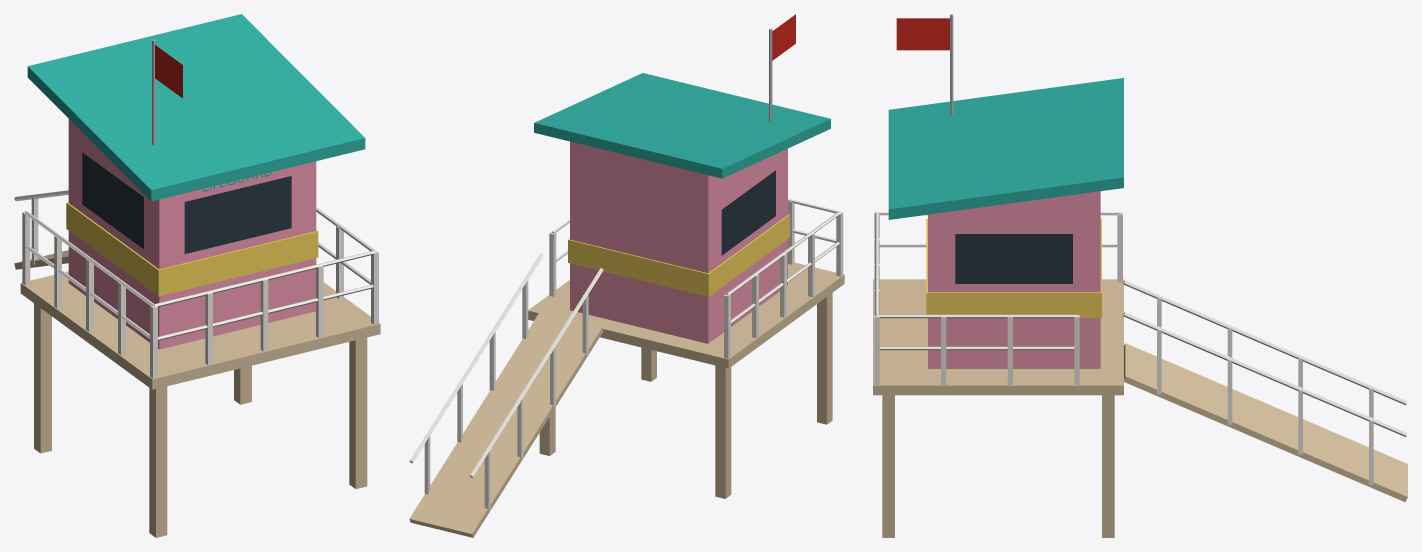
File: lifeguard_tower.glb
3 views of the same model, side by side, from view 1: azimuth 30°, elevation 25°; view 2: azimuth 150°, elevation 25°; view 3: azimuth 270°, elevation 25° (orthographic). The views are drawn at different scales.
Parts seen in each view (by area): view 1: lifeguard_tower_mesh; view 2: lifeguard_tower_mesh; view 3: lifeguard_tower_mesh.
Part boxes in pixels (x1,y1,x2,y2): lifeguard_tower_mesh: (14,14,380,537); lifeguard_tower_mesh: (409,14,844,537); lifeguard_tower_mesh: (873,14,1407,537).
Size of the model in its own units: 3.2 by 6.2 by 6.82.
